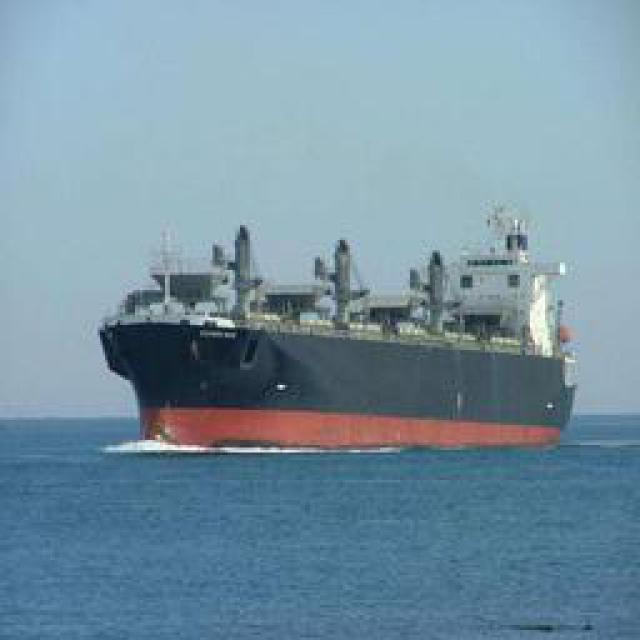Ship: (101, 210, 589, 448)
